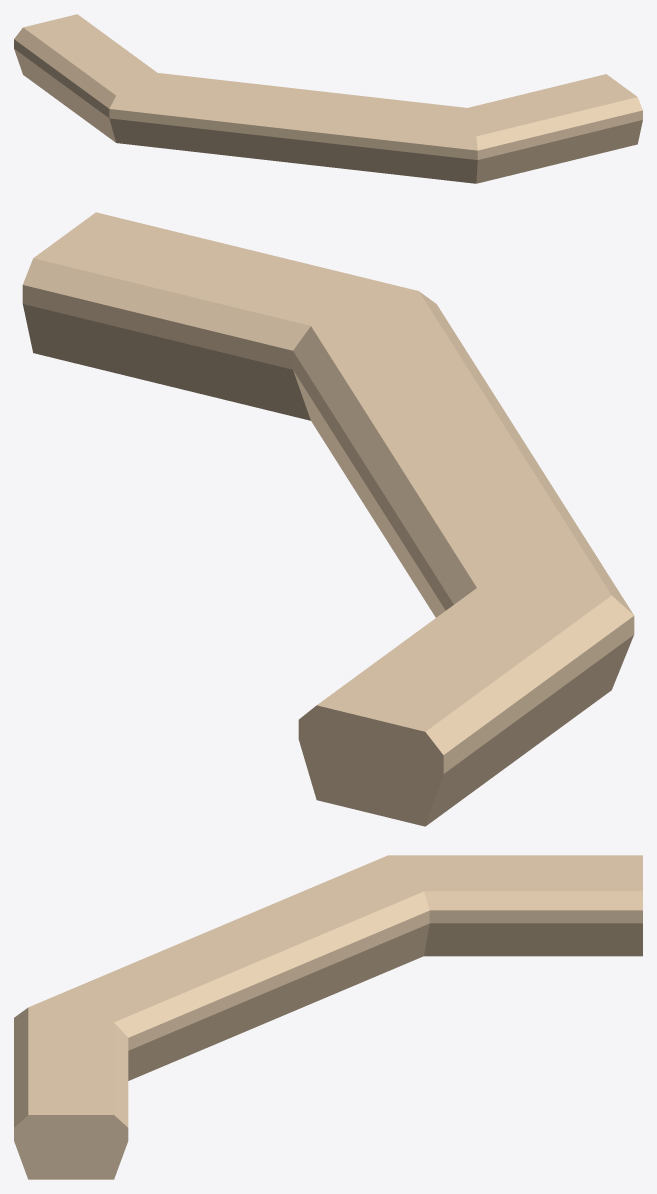
The model's file is temple_Wall_Curved_Large_Top.glb.
3 renders of one model, top to bottom at view 1: azimuth 30°, elevation 25°; view 2: azimuth 150°, elevation 25°; view 3: azimuth 270°, elevation 25°, orthographic. The views are drawn at different scales.
Parts seen in each view (by area): view 1: object1; view 2: object1; view 3: object1.
Part boxes in pixels (box(x1,y1,x2,y2)): object1: box(14, 14, 642, 183); object1: box(22, 212, 634, 826); object1: box(14, 855, 642, 1179).
Bounding box in the file's own units: 2.2 × 0.25 × 2.2.
